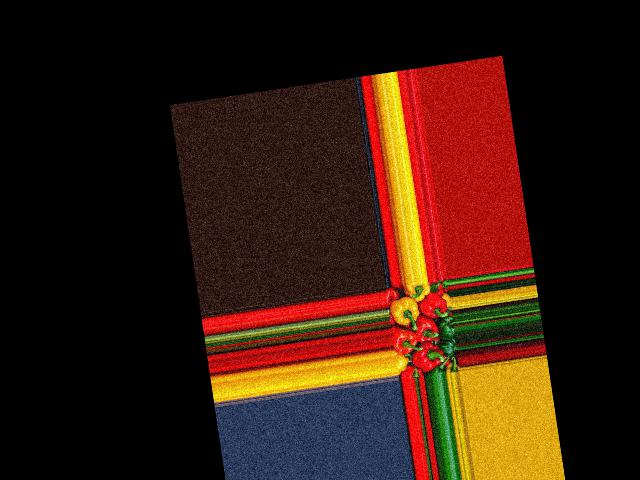bell_pepper: (394, 353, 409, 372)
